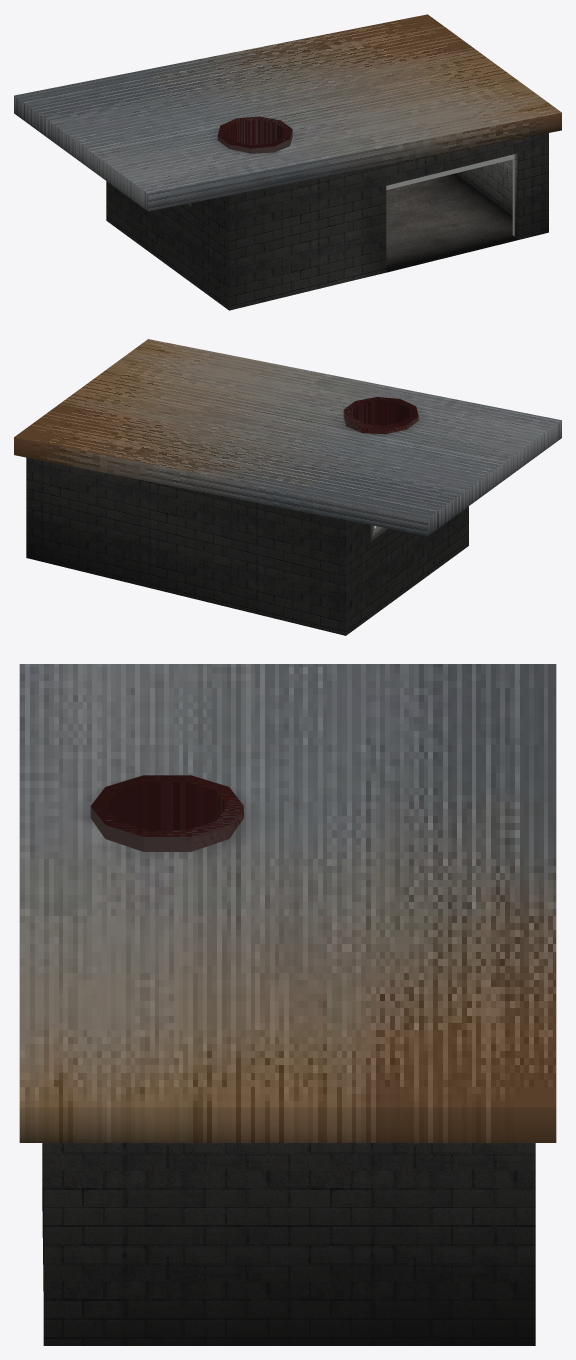
The model's file is garage.glb.
3 views of the same model, one above another, from view 1: azimuth 30°, elevation 25°; view 2: azimuth 150°, elevation 25°; view 3: azimuth 270°, elevation 25° (orthographic). The views are drawn at different scales.
Parts seen in each view (by area): view 1: Roof, Walls, Floor, CeilingFanShaft, Door; view 2: Roof, Walls, CeilingFanShaft; view 3: Roof, Walls, CeilingFanShaft.
Part boxes in pixels (left/top/right/bottom): Roof: left=14, top=14, right=561, bottom=211; Walls: left=106, top=133, right=548, bottom=310; Floor: left=386, top=173, right=517, bottom=272; CeilingFanShaft: left=217, top=116, right=292, bottom=153; Door: left=386, top=154, right=514, bottom=236; Roof: left=14, top=339, right=561, bottom=536; Walls: left=26, top=457, right=468, bottom=635; CeilingFanShaft: left=343, top=397, right=418, bottom=434; Roof: left=19, top=664, right=556, bottom=1142; Walls: left=42, top=1143, right=535, bottom=1345; CeilingFanShaft: left=90, top=775, right=243, bottom=851.
Bounding box in the file's own units: 12.47 × 4.16 × 7.01.
7 materials, 7 textured.
